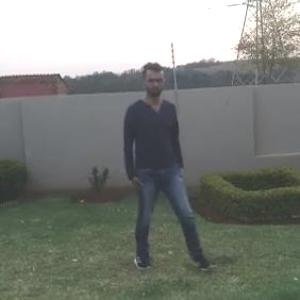follow: (110, 62, 180, 274)
